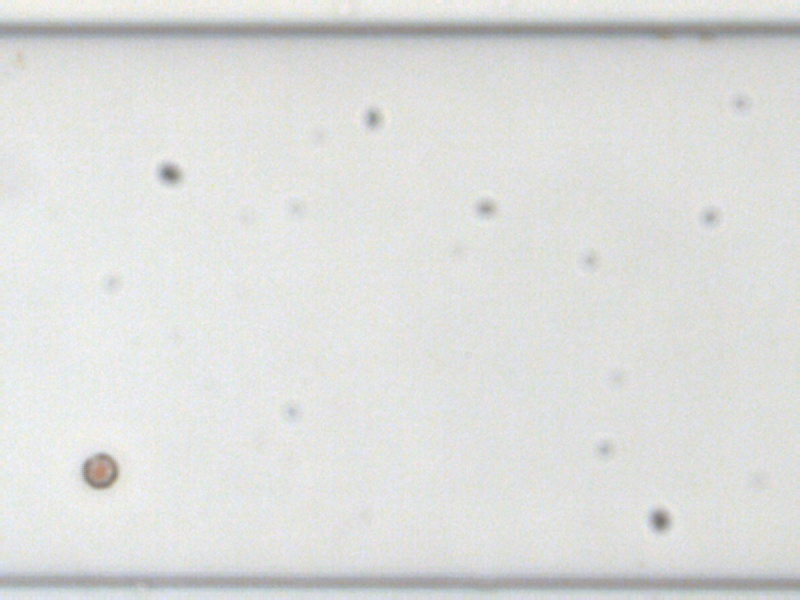Porphyridium: (80, 451, 118, 492)
